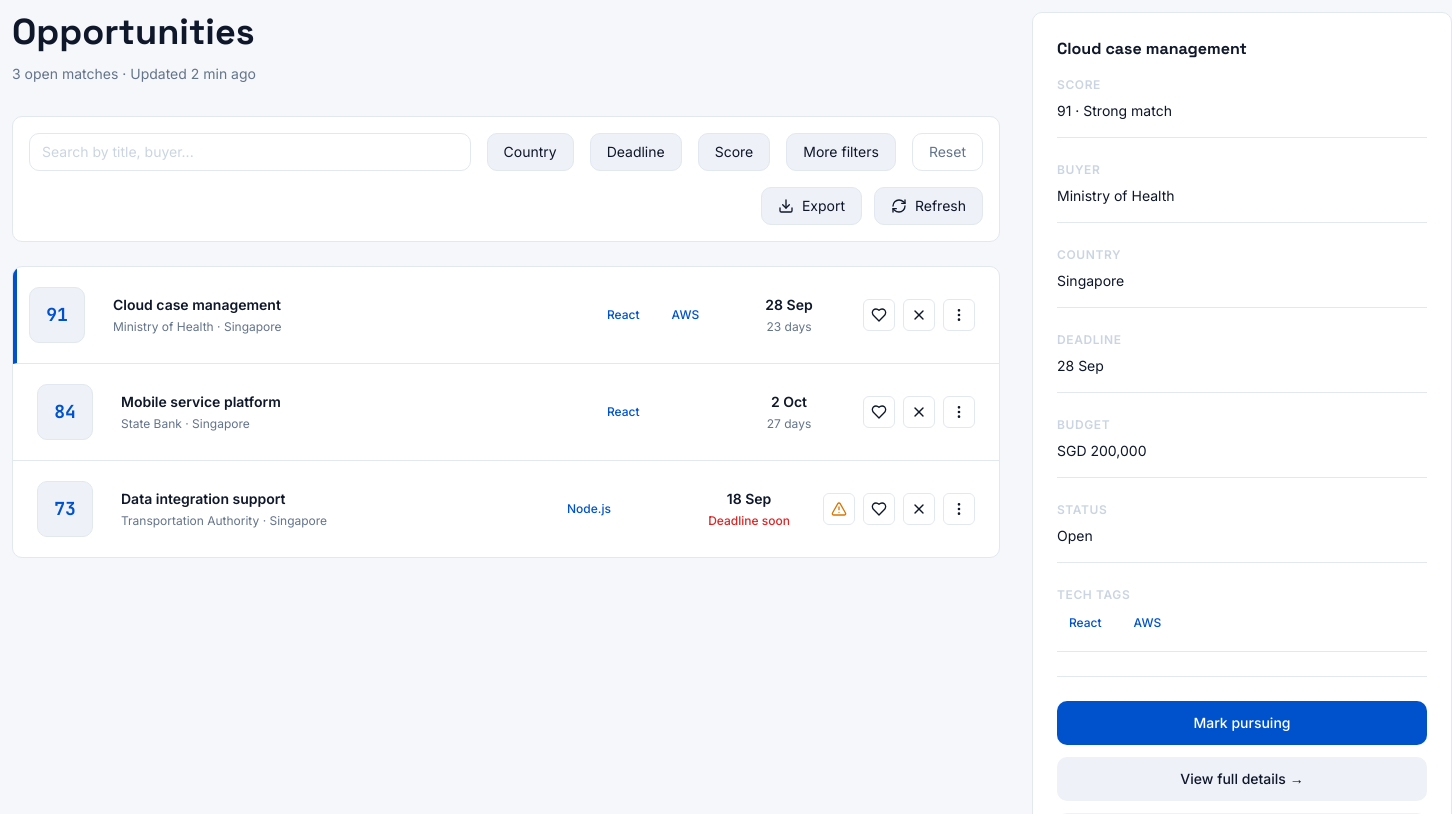
Scenario: InboxList › clears filters when "Clear filters" button is clicked
Type "NonexistentTender" into the field with placeholder "Search by title, buyer..." at point(250, 152), box [29,133,470,171]
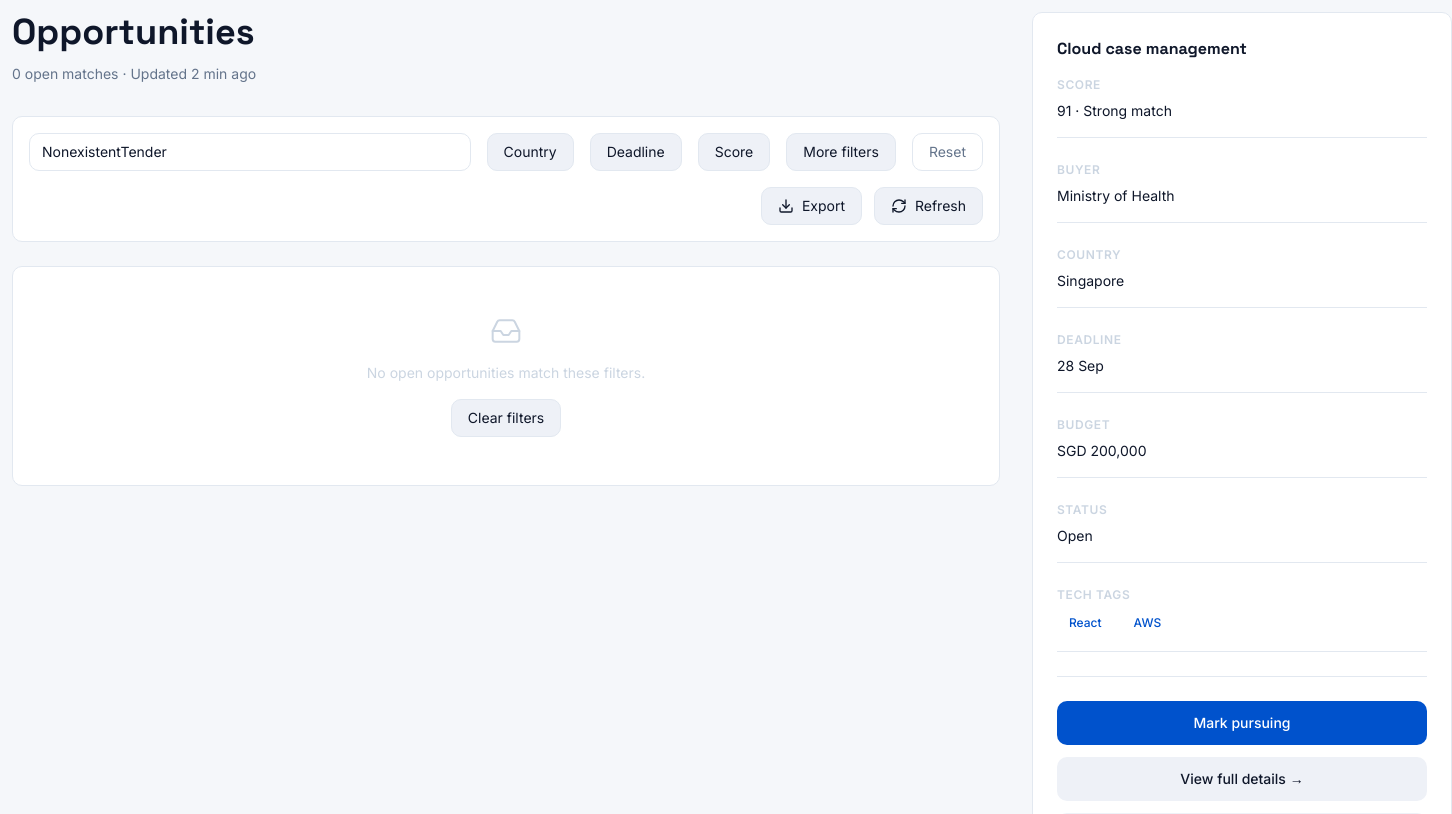
Now the text "No open opportunities match these filters." is shown, box [367,364,645,381]
Click the button "Clear filters" at point(506, 418), box [451,399,561,437]
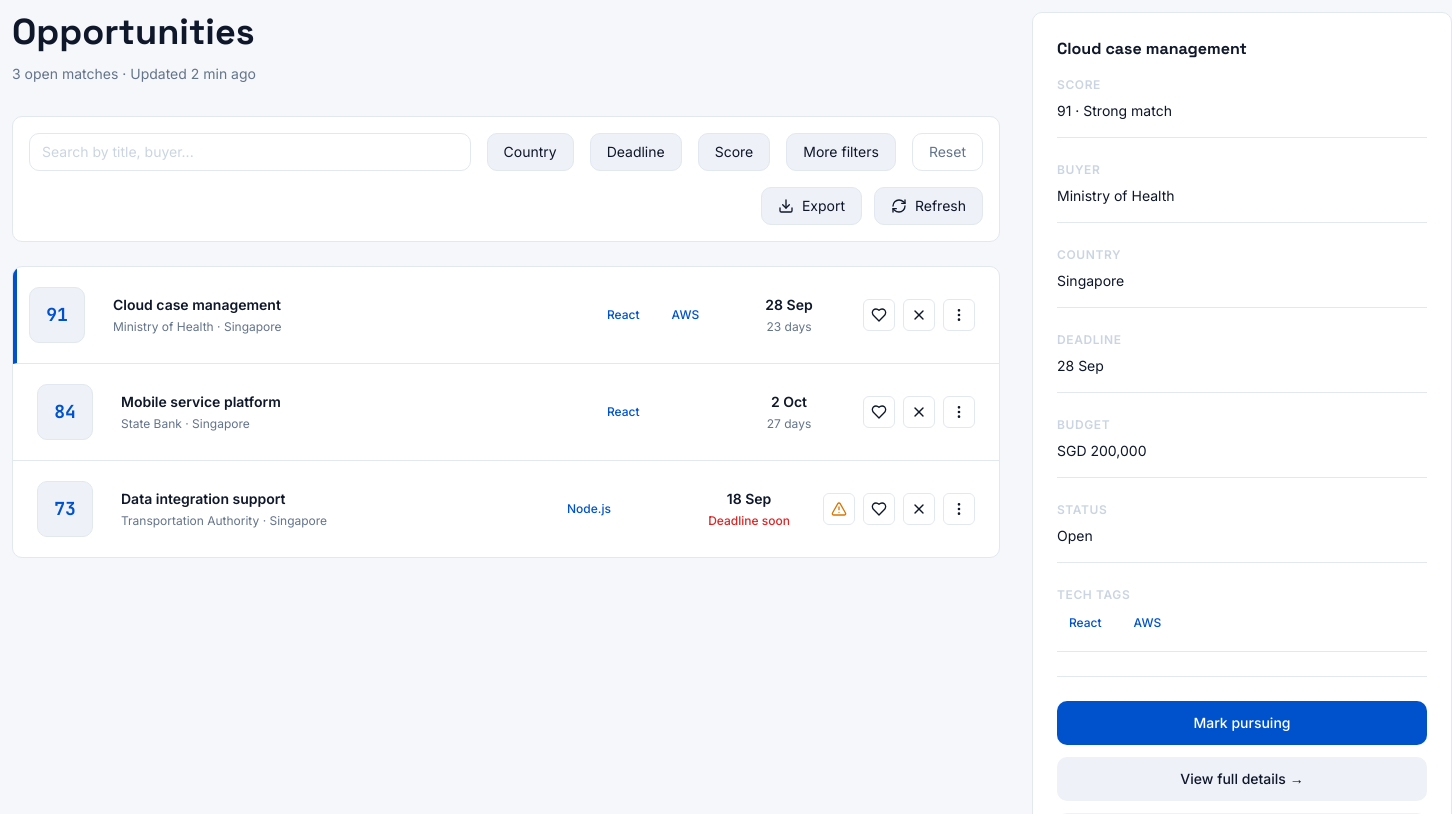
Now the field with placeholder "Search by title, buyer..." is empty, box [29,133,470,171]
Now the heading "Cloud case management" is shown, box [113,296,281,313]
